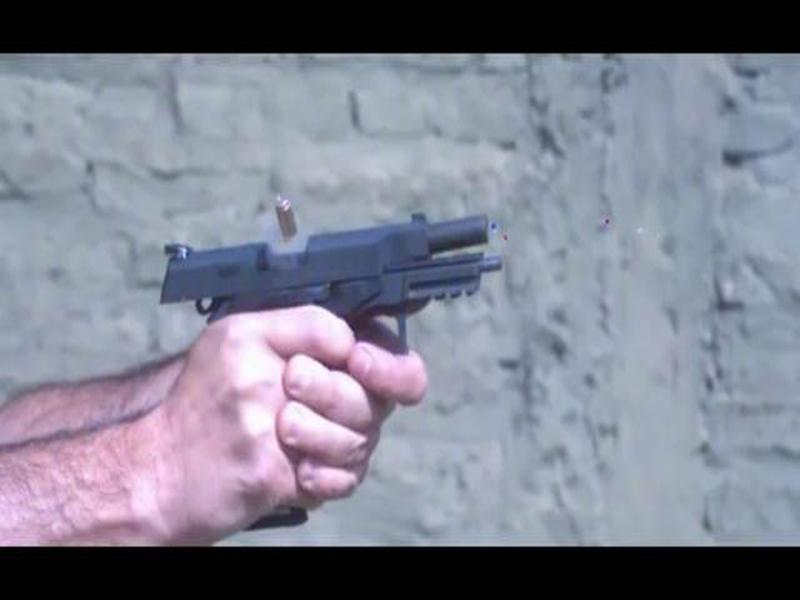Pistola: (157, 194, 522, 371)
